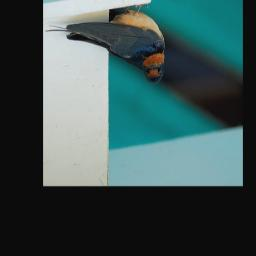Swallow: (45, 5, 168, 88)
